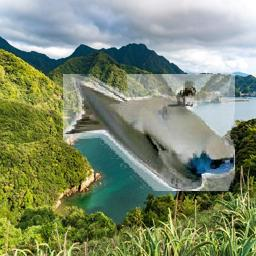Swallow: (63, 75, 235, 192)
